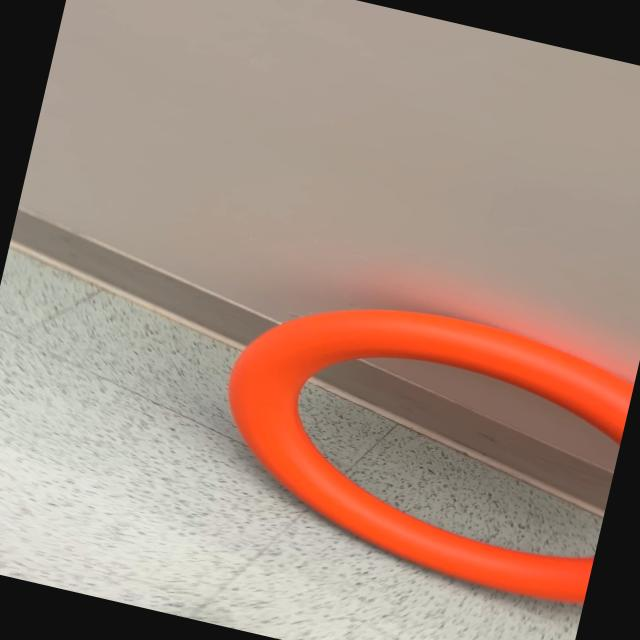note: (193, 268, 638, 610)
